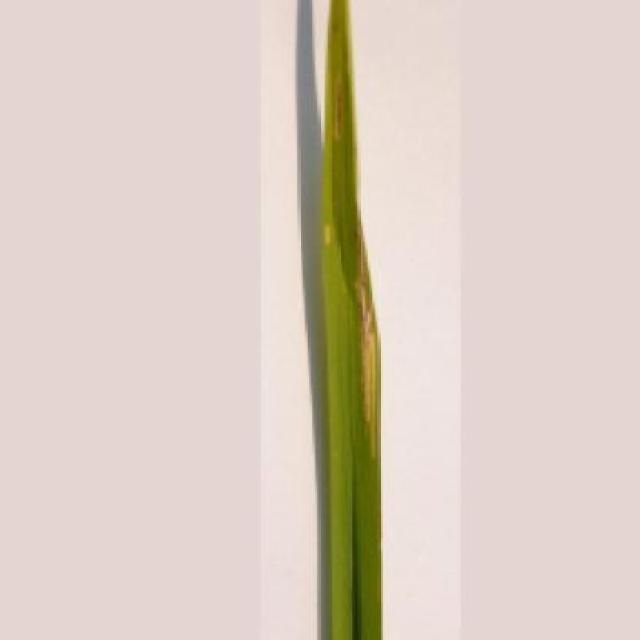Brown_Spot: (312, 0, 388, 640)
